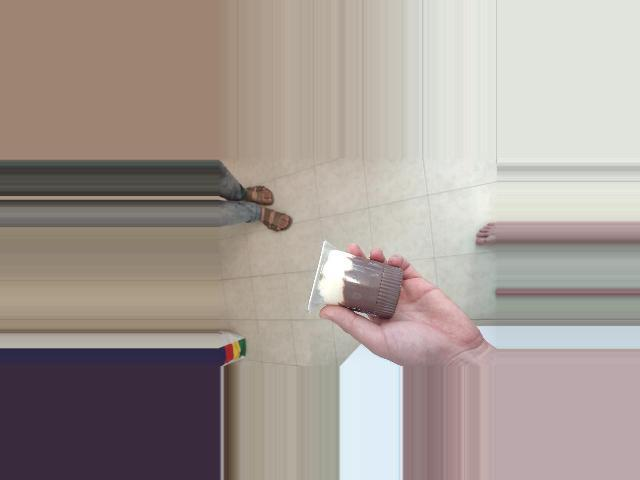milky: (305, 252, 418, 325)
